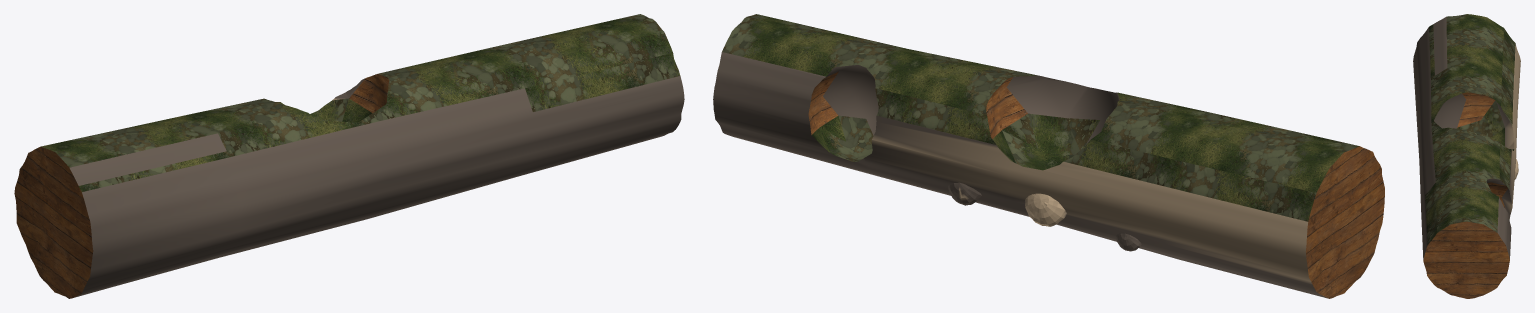
Rendered from rotten-fallen-log-v01.glb.
3 views of the same model, side by side, from view 1: azimuth 30°, elevation 25°; view 2: azimuth 150°, elevation 25°; view 3: azimuth 270°, elevation 25° (orthographic). The views are drawn at different scales.
Parts seen in each view (by area): view 1: rotten-fallen-log; view 2: rotten-fallen-log; view 3: rotten-fallen-log.
Boxes of the visible parts, x1,y1,x2,y2 form: rotten-fallen-log: [14, 14, 684, 298]; rotten-fallen-log: [713, 14, 1384, 298]; rotten-fallen-log: [1413, 14, 1520, 298].
Bounding box in the file's own units: 4.43 × 0.9847 × 1.
4 materials, 2 textured.
